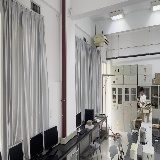fire: (114, 120, 119, 135)
